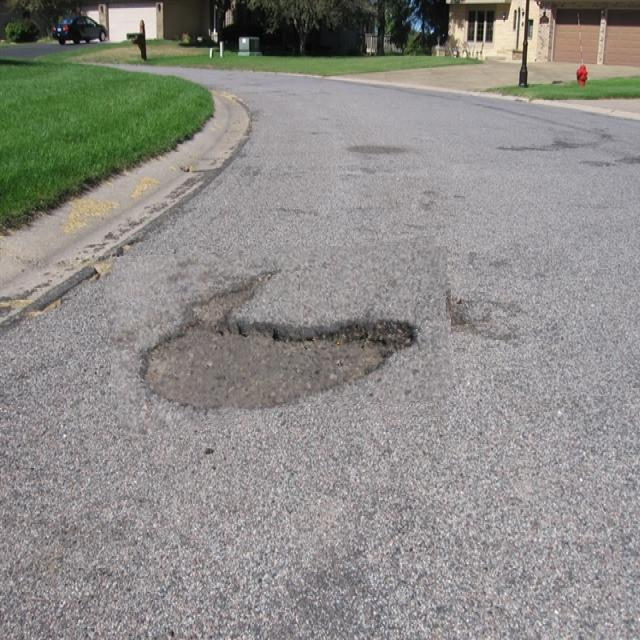Pothole: (108, 246, 452, 428)
